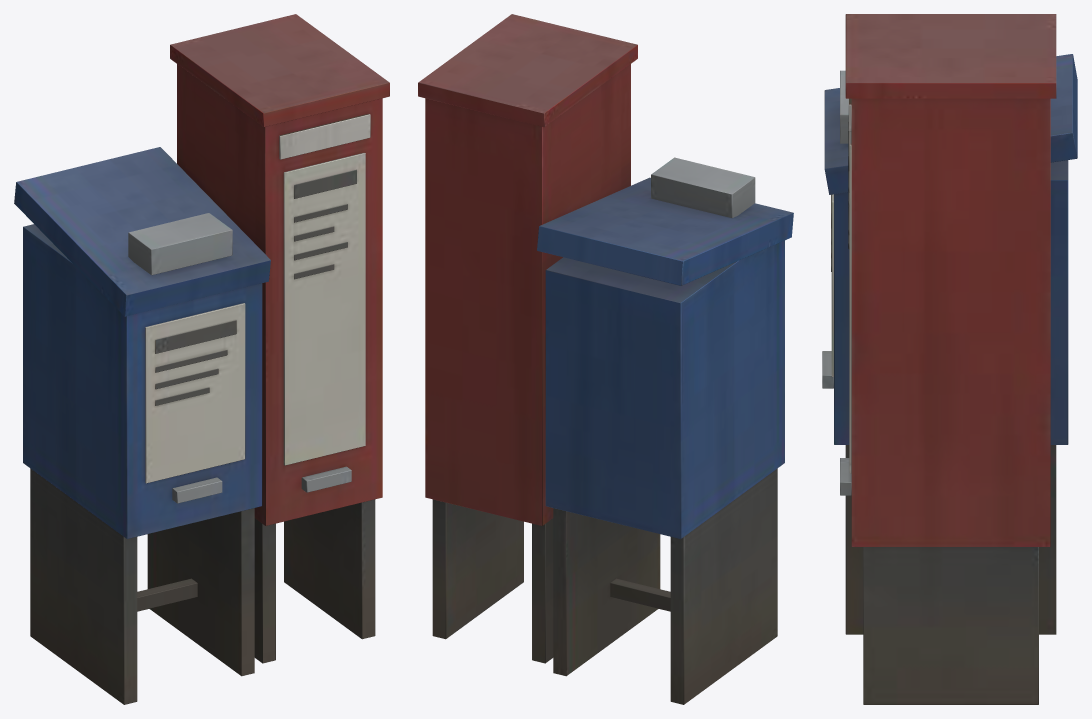
Rendered from newsBox-v2.glb.
3 views of the same model, side by side, from view 1: azimuth 30°, elevation 25°; view 2: azimuth 150°, elevation 25°; view 3: azimuth 270°, elevation 25° (orthographic). The views are drawn at different scales.
Parts seen in each view (by area): view 1: newsBox; view 2: newsBox; view 3: newsBox.
Part boxes in pixels (bbox=[...]): newsBox: bbox=[14, 14, 389, 704]; newsBox: bbox=[418, 14, 793, 704]; newsBox: bbox=[822, 14, 1077, 704].
Size of the model in its own units: 0.604 by 1.18 by 0.4361.
Materials: 1 (1 with a texture image).
